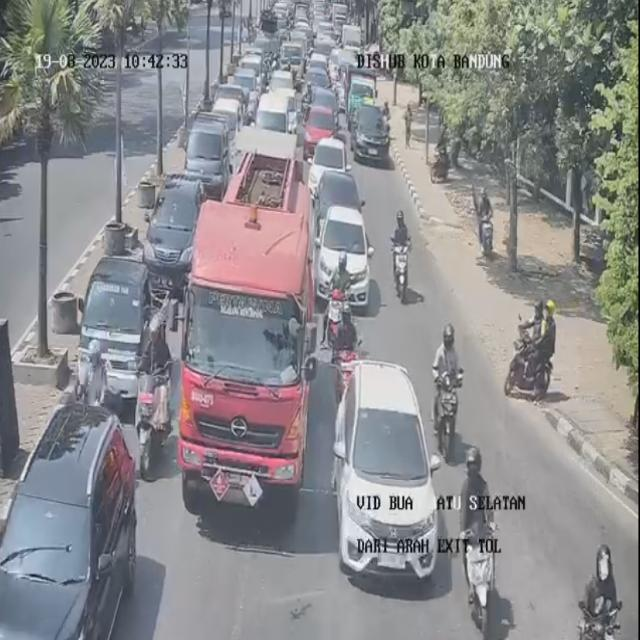cars: (0, 406, 137, 640), (334, 355, 440, 576), (78, 255, 151, 404), (319, 204, 374, 309), (148, 177, 200, 278), (188, 113, 230, 194), (314, 141, 359, 211), (353, 93, 388, 166), (222, 69, 253, 120), (302, 100, 332, 151), (260, 90, 290, 138), (216, 80, 246, 123), (270, 68, 296, 115), (312, 85, 336, 124), (306, 53, 329, 91), (244, 52, 265, 86), (283, 36, 304, 68), (316, 35, 335, 64), (320, 22, 338, 47)
motorcycle: (455, 446, 502, 625), (574, 538, 624, 638), (433, 316, 467, 455), (520, 301, 560, 401), (322, 254, 354, 360), (329, 301, 362, 396), (388, 206, 412, 300), (474, 188, 499, 263)
truck: (186, 198, 318, 493)
